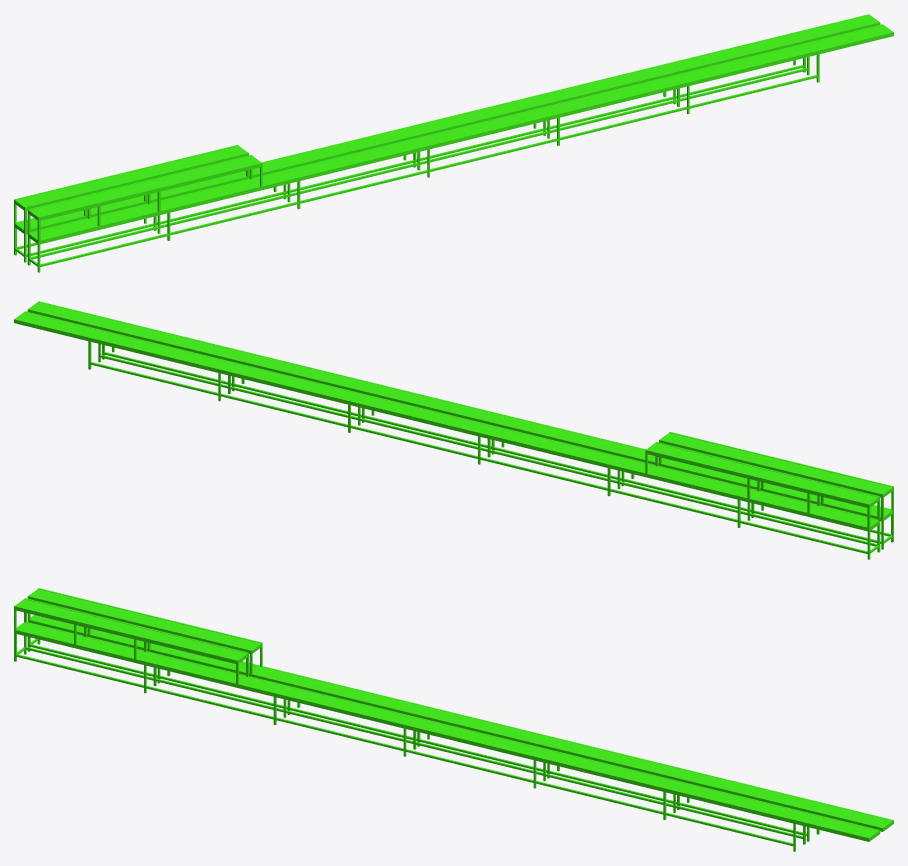
File: 砂光线传送带.FBX
The picture shows the model from 3 angles, top to bottom: view 1: azimuth 30°, elevation 25°; view 2: azimuth 150°, elevation 25°; view 3: azimuth 330°, elevation 25°; orthographic projection.
Size of the model in its own units: 752 by 46.46 by 37.8.
